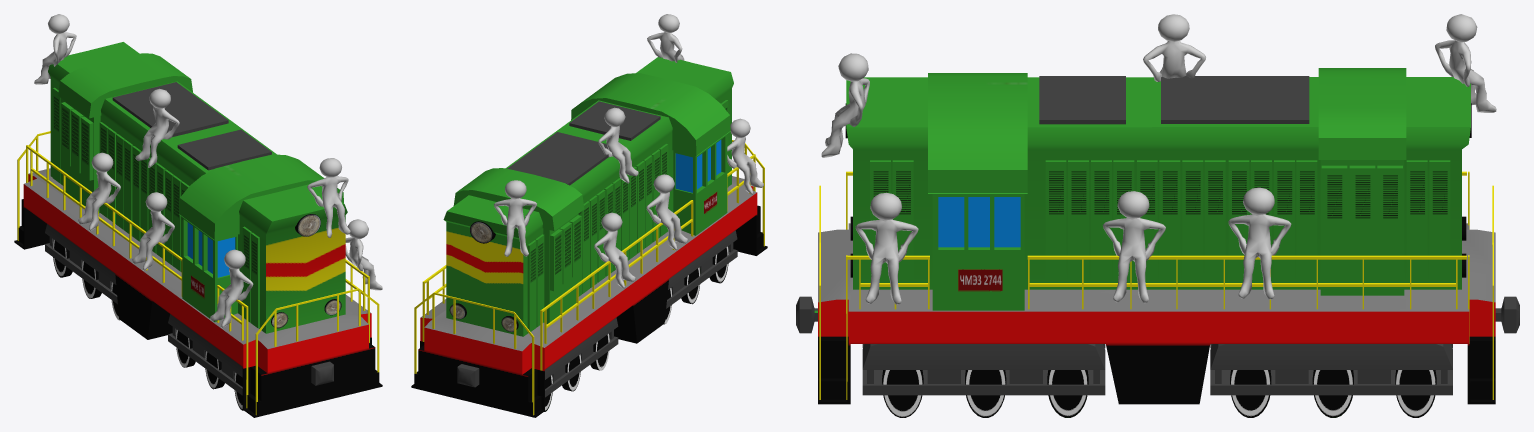
Rendered from IndiaFinal.fbx.
The picture shows the model from 3 angles, left to right: view 1: azimuth 30°, elevation 25°; view 2: azimuth 150°, elevation 25°; view 3: azimuth 270°, elevation 25°; orthographic projection. The views are drawn at different scales.
Visible parts, largest first — view 1: Куб_009_Куб_043, Char_Model_remesh_8, Char_Model_remesh_7, Char_Model_remesh_3, Char_Model_remesh_1, Char_Model_remesh_2, Char_Model_remesh, Char_Model_remesh_6; view 2: Куб_009_Куб_043, Char_Model_remesh, Char_Model_remesh_2, Char_Model_remesh_1, Char_Model_remesh_7, Char_Model_remesh_3, Char_Model_remesh_8; view 3: Куб_009_Куб_043, Char_Model_remesh_4, Char_Model_remesh_5, Char_Model_remesh_6, Char_Model_remesh, Char_Model_remesh_8, Char_Model_remesh_7.
Boxes of the visible parts, bbox=[...] form: Куб_009_Куб_043: bbox=[14, 42, 382, 417]; Char_Model_remesh_8: bbox=[307, 158, 350, 237]; Char_Model_remesh_7: bbox=[135, 88, 179, 167]; Char_Model_remesh_3: bbox=[210, 249, 253, 328]; Char_Model_remesh_1: bbox=[78, 152, 120, 231]; Char_Model_remesh_2: bbox=[132, 192, 174, 270]; Char_Model_remesh: bbox=[34, 14, 76, 84]; Char_Model_remesh_6: bbox=[345, 219, 382, 290]; Куб_009_Куб_043: bbox=[411, 57, 767, 417]; Char_Model_remesh: bbox=[493, 180, 536, 256]; Char_Model_remesh_2: bbox=[646, 174, 687, 250]; Char_Model_remesh_1: bbox=[594, 212, 635, 288]; Char_Model_remesh_7: bbox=[598, 107, 638, 183]; Char_Model_remesh_3: bbox=[727, 118, 763, 194]; Char_Model_remesh_8: bbox=[647, 14, 684, 62]; Куб_009_Куб_043: bbox=[796, 68, 1519, 417]; Char_Model_remesh_4: bbox=[1228, 187, 1291, 299]; Char_Model_remesh_5: bbox=[1103, 191, 1165, 303]; Char_Model_remesh_6: bbox=[855, 192, 918, 304]; Char_Model_remesh: bbox=[1435, 14, 1496, 112]; Char_Model_remesh_8: bbox=[821, 53, 869, 157]; Char_Model_remesh_7: bbox=[1143, 14, 1205, 81].
Bounding box in the file's own units: 266 × 387 × 730.
2 materials, 1 textured.
